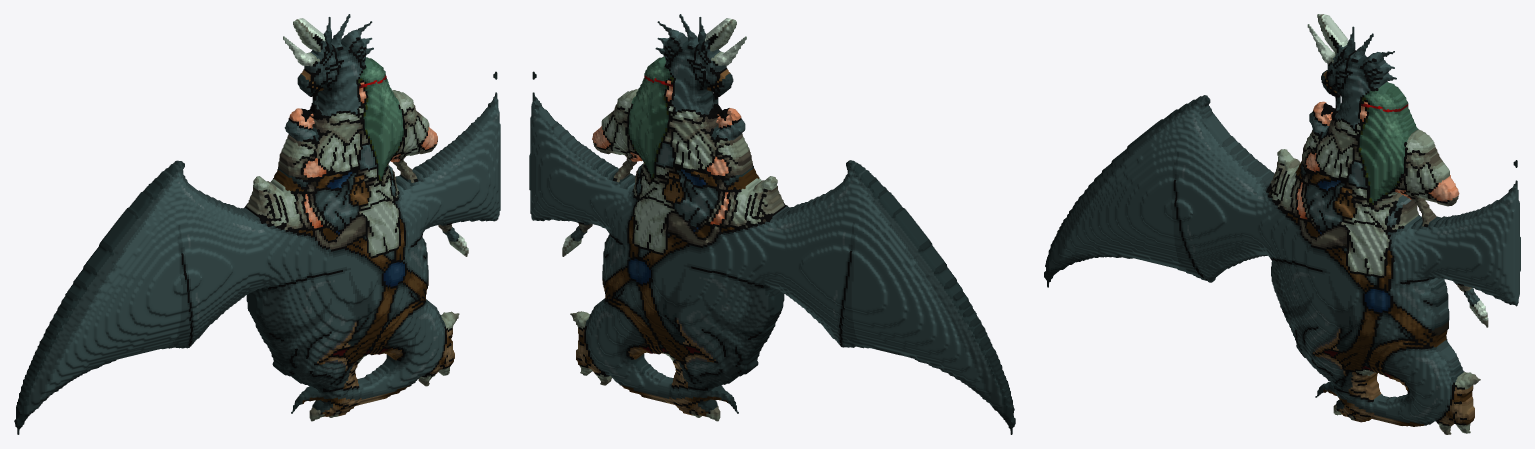
File: Fight_027_1_03.obj
3 views of the same model, side by side, from view 1: azimuth 30°, elevation 25°; view 2: azimuth 150°, elevation 25°; view 3: azimuth 330°, elevation 25° (orthographic). The views are drawn at different scales.
Size of the model in its own units: 24.3 by 19.5 by 3.5.
Materials: 1 (1 with a texture image).
